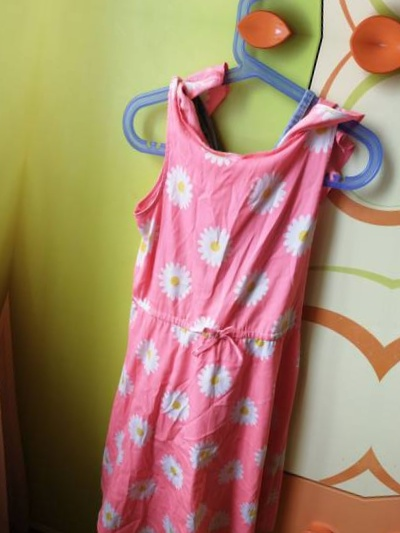Dress: (64, 34, 392, 533), (382, 76, 400, 533), (137, 0, 400, 24)
